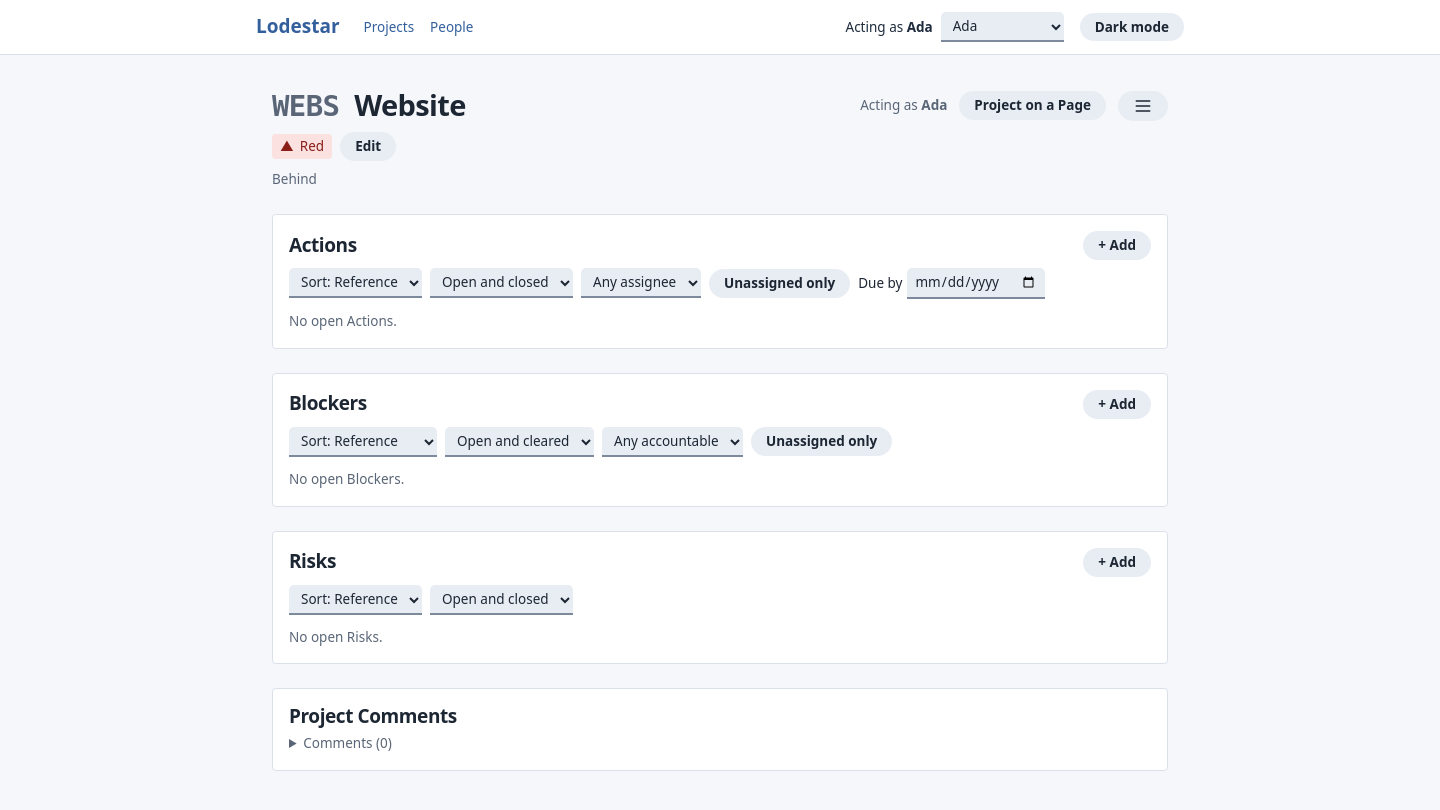
Test: Health Rating in the meeting view header › changes the rating and clears the comment
The width and height of the screenshot is (1440, 810).
Expected: the message named "Health Rating" reads "▲ Red", [272,134,332,159]
Click the button with aria-label "Edit Health Rating" at x=368, y=147, box [340,132,396,161]
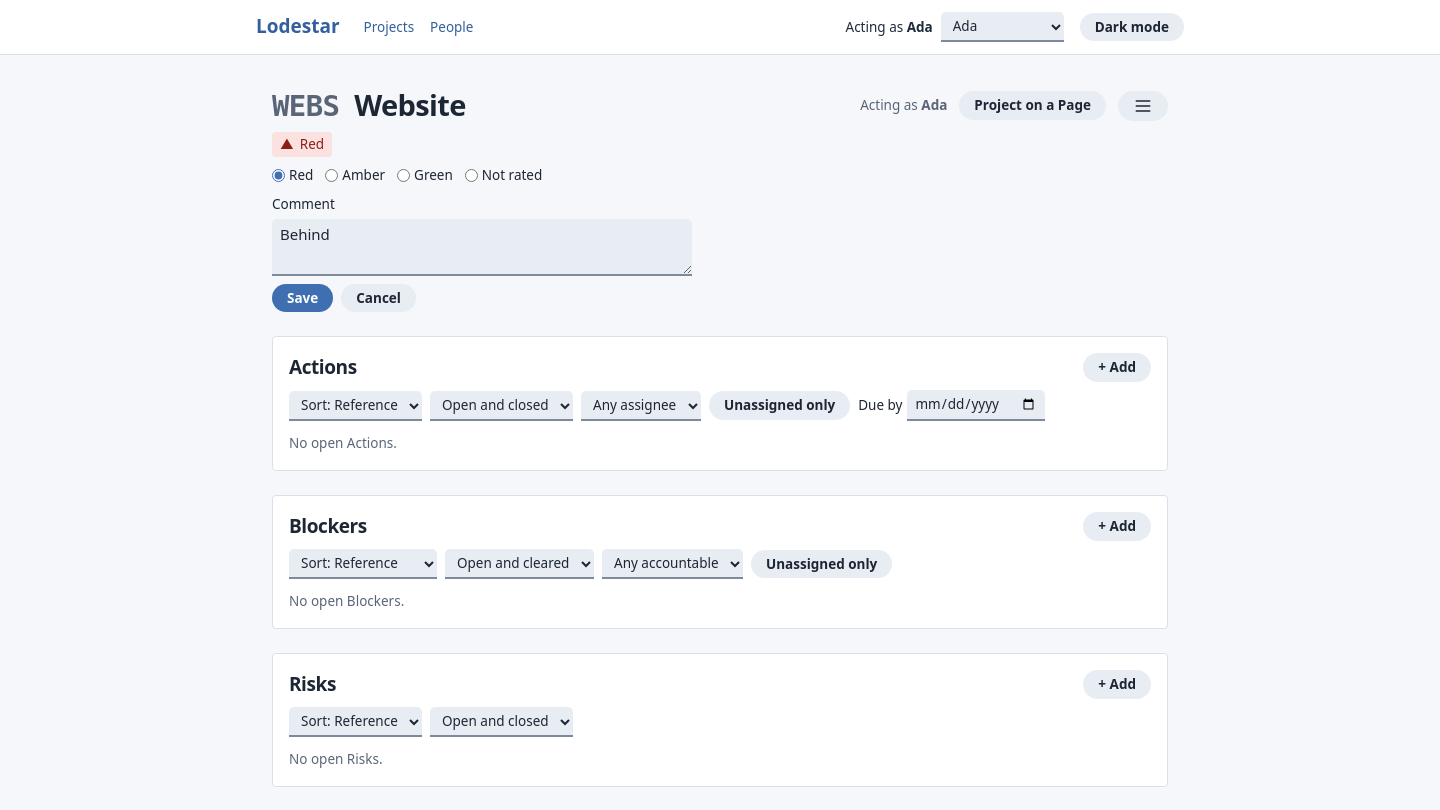
Click the radio button labelled "Green" at x=404, y=176, box [397,169,410,182]
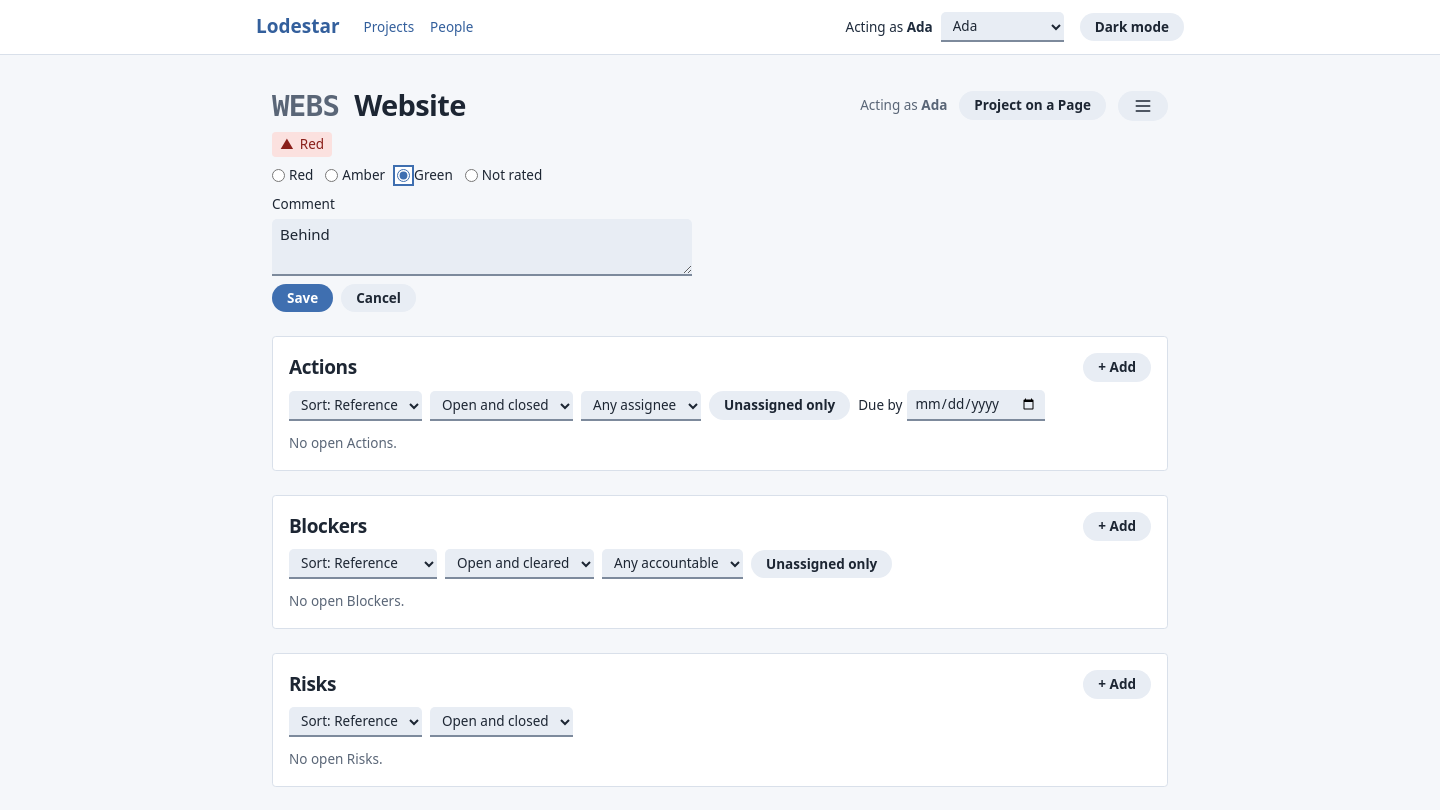
Clear the text box labelled "Comment" at x=482, y=247, box [272,219,692,276]
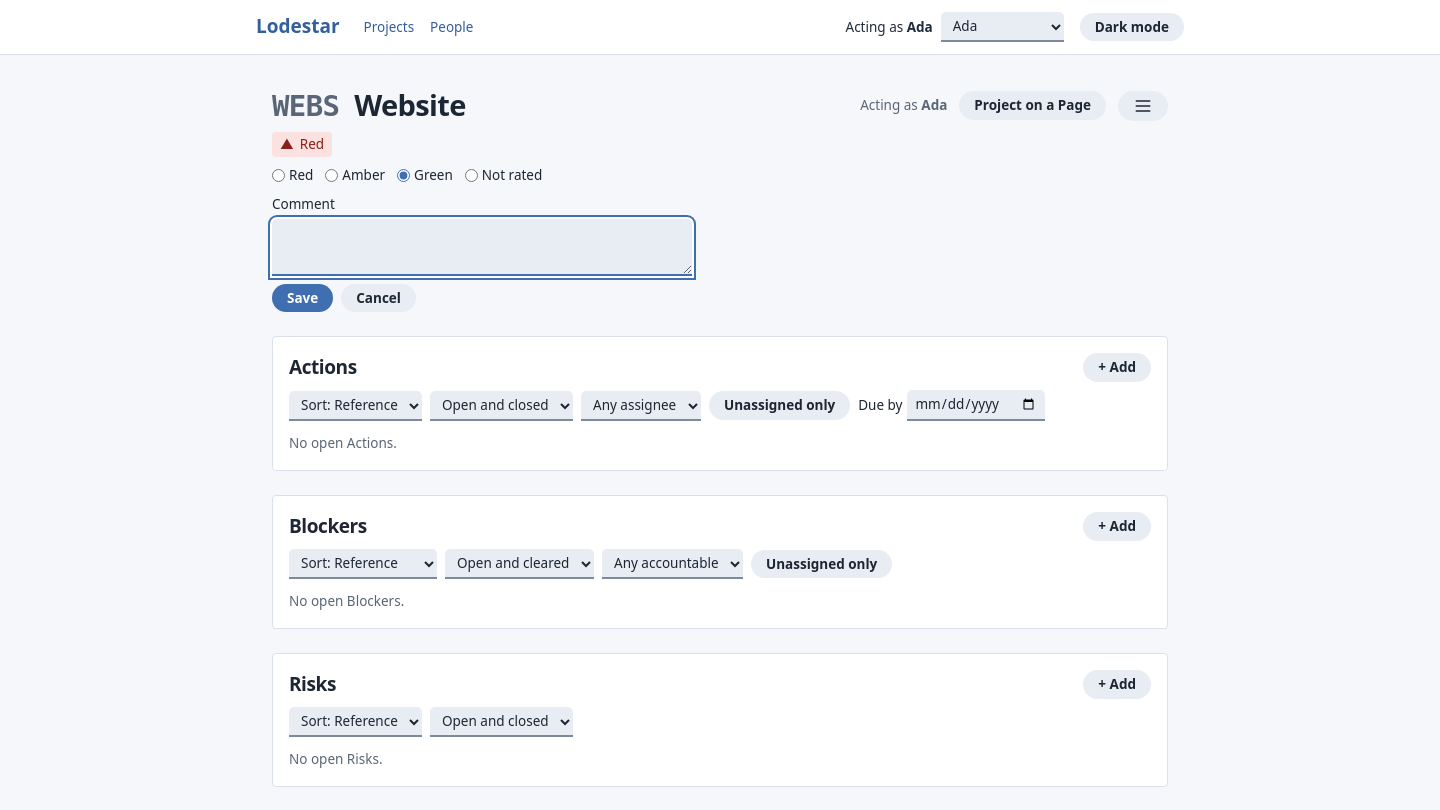
Click the button "Save" at x=303, y=298, box [272,284,333,312]
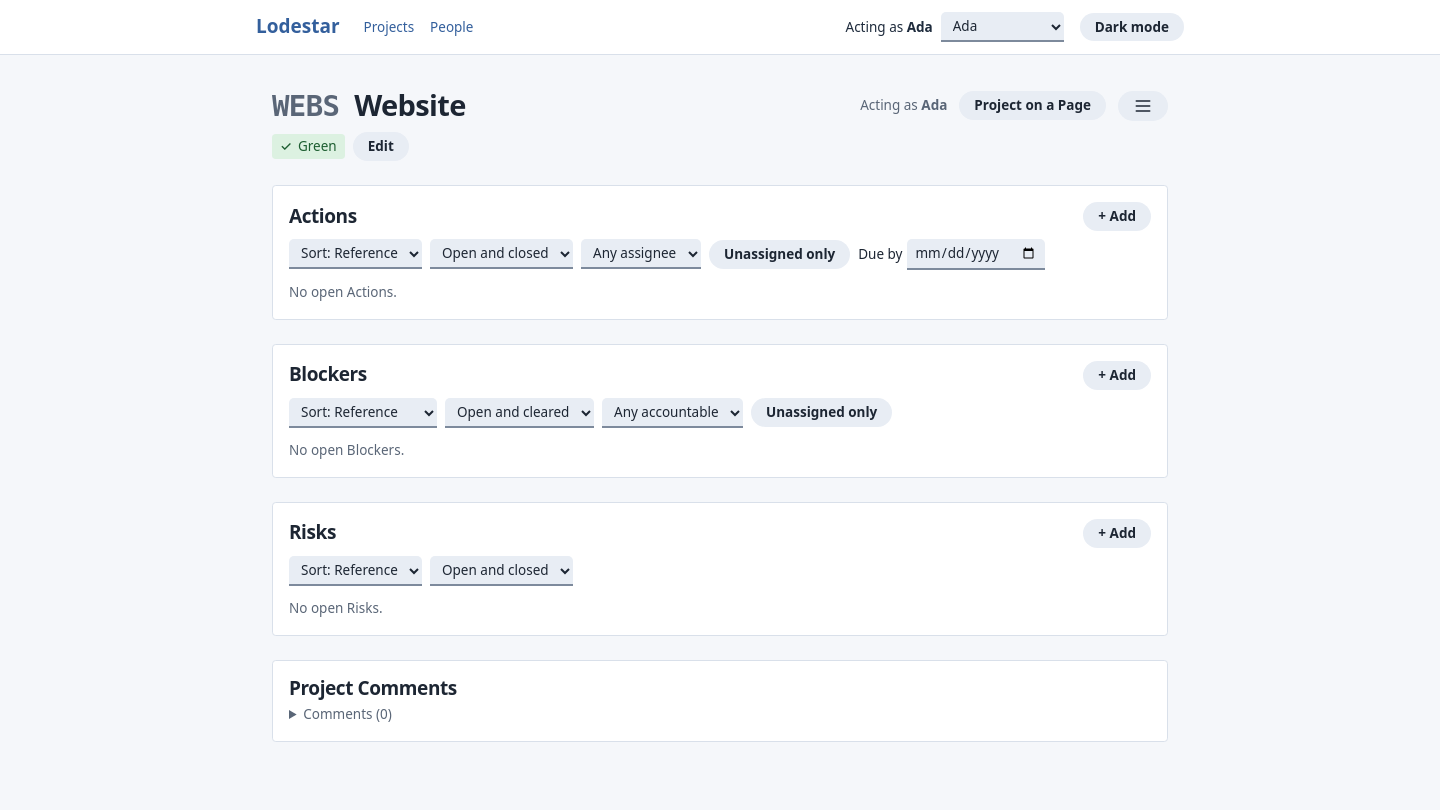
Expected: the text "Behind" is not shown
Result: the message named "Health Rating" reads "✓ Green" at [272,134,345,159]
